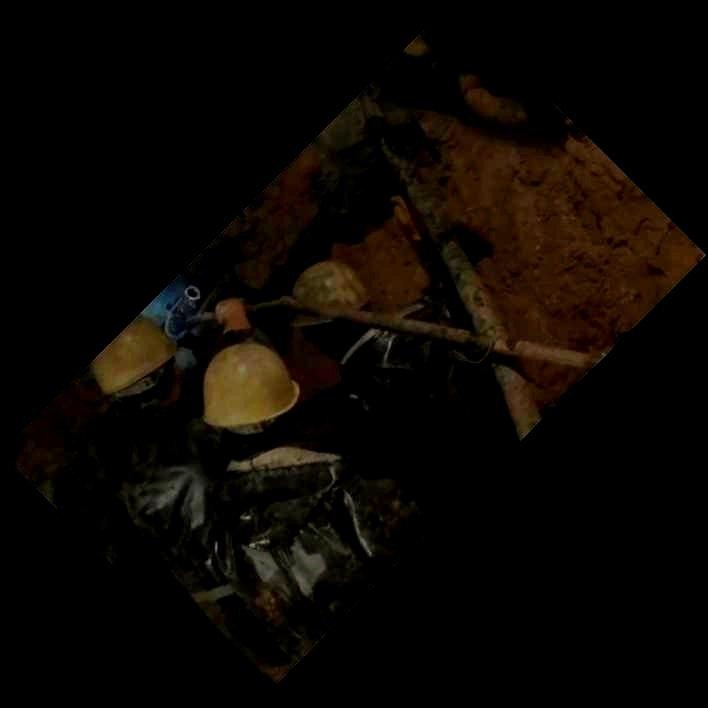helmet: (201, 342, 301, 435), (91, 314, 179, 408), (287, 257, 370, 355)
